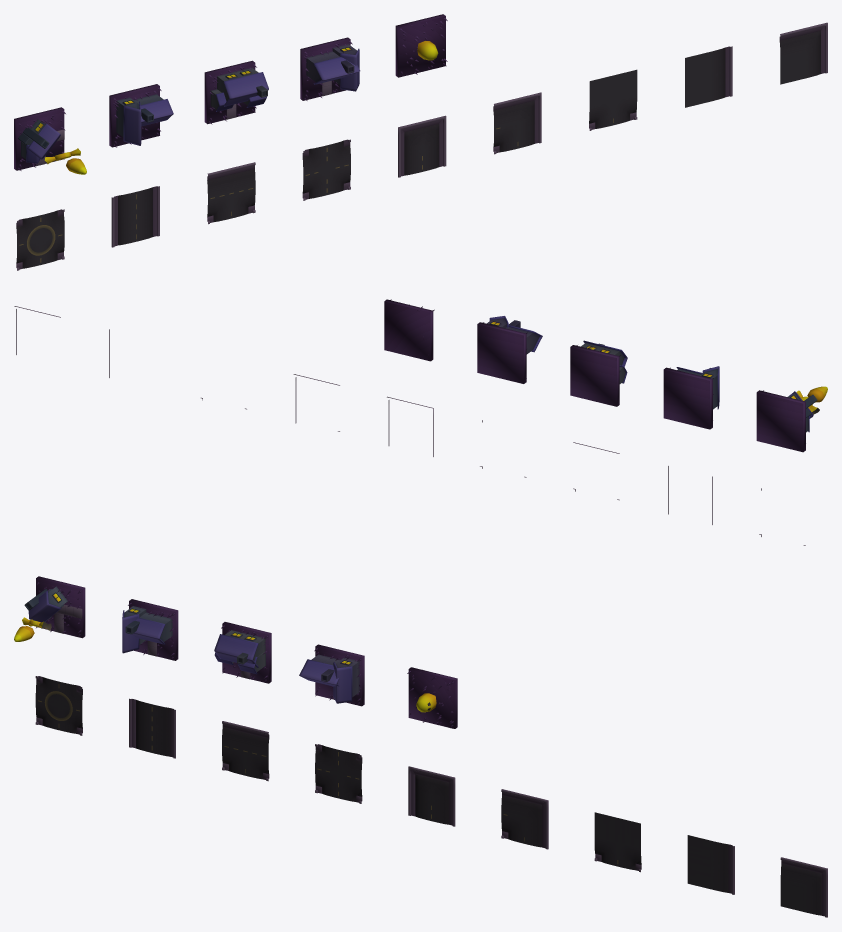
The model's file is city.gltf.
3 renders of one model, top to bottom at view 1: azimuth 30°, elevation 25°; view 2: azimuth 150°, elevation 25°; view 3: azimuth 330°, elevation 25°, orthographic. The views are drawn at different scales.
Visible parts, largest first — view 1: house_b, house_c, house_a, house_corner, road_end, road_horizontal, road_tee, road_corner, road_corner_open, road_tee_open, road_spawn, road_plus (+2 smaller); view 2: house_c, house_a, house_b, house_corner, park; view 3: house_a, house_c, house_b, house_corner, road_end, road_corner_open, road_corner, road_edge_open, road_tee, road_spawn, road_plus, road_horizontal (+2 smaller).
Part boxes in pixels (left/top/right/bottom): house_b: left=204, top=60, right=268, bottom=124; house_c: left=300, top=37, right=360, bottom=100; house_a: left=109, top=84, right=173, bottom=147; house_corner: left=14, top=107, right=65, bottom=170; road_end: left=398, top=115, right=446, bottom=177; road_horizontal: left=111, top=186, right=159, bottom=247; road_tee: left=207, top=162, right=255, bottom=224; road_corner: left=493, top=92, right=541, bottom=154; road_corner_open: left=779, top=22, right=827, bottom=84; road_tee_open: left=589, top=69, right=637, bottom=130; road_spawn: left=16, top=209, right=64, bottom=270; road_plus: left=302, top=139, right=350, bottom=200; house_c: left=477, top=316, right=542, bottom=383; house_a: left=663, top=366, right=719, bottom=429; house_b: left=570, top=340, right=627, bottom=406; house_corner: left=756, top=390, right=817, bottom=452; park: left=384, top=299, right=434, bottom=361; house_a: left=122, top=599, right=178, bottom=660; house_c: left=299, top=644, right=364, bottom=706; house_b: left=214, top=622, right=271, bottom=683; house_corner: left=24, top=576, right=85, bottom=638; road_end: left=408, top=766, right=455, bottom=826; road_corner_open: left=780, top=857, right=827, bottom=917; road_corner: left=501, top=789, right=548, bottom=849; road_edge_open: left=687, top=835, right=734, bottom=894; road_tee: left=222, top=721, right=269, bottom=781; road_spawn: left=35, top=676, right=82, bottom=735; road_plus: left=315, top=744, right=362, bottom=803; road_horizontal: left=129, top=698, right=175, bottom=758.
Size of the model in its own units: 17 by 3 by 1.75.
Materials: 1 (1 with a texture image).
